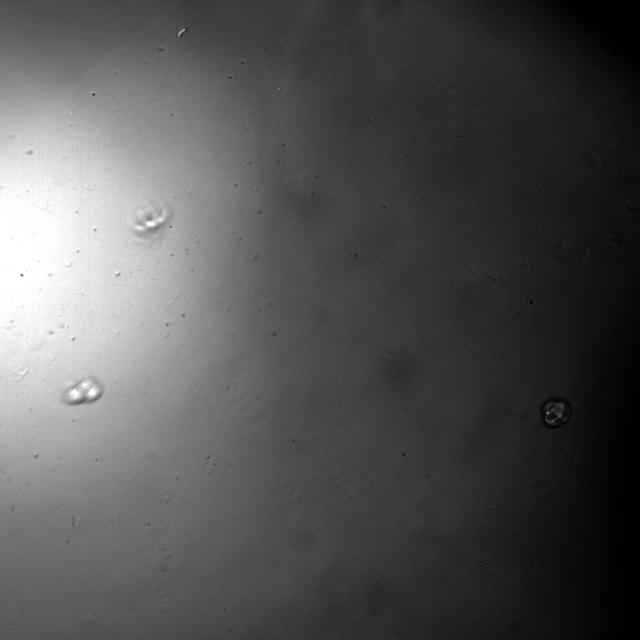organoid: (131, 203, 170, 239), (62, 376, 103, 405), (541, 397, 571, 428)
